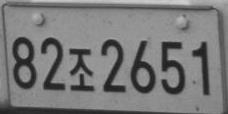1: (190, 41, 215, 95)
2: (100, 38, 126, 92), (40, 37, 66, 90)
5: (160, 40, 185, 94)
6: (129, 40, 156, 93)
8: (11, 35, 37, 89)
조: (69, 48, 94, 91)
